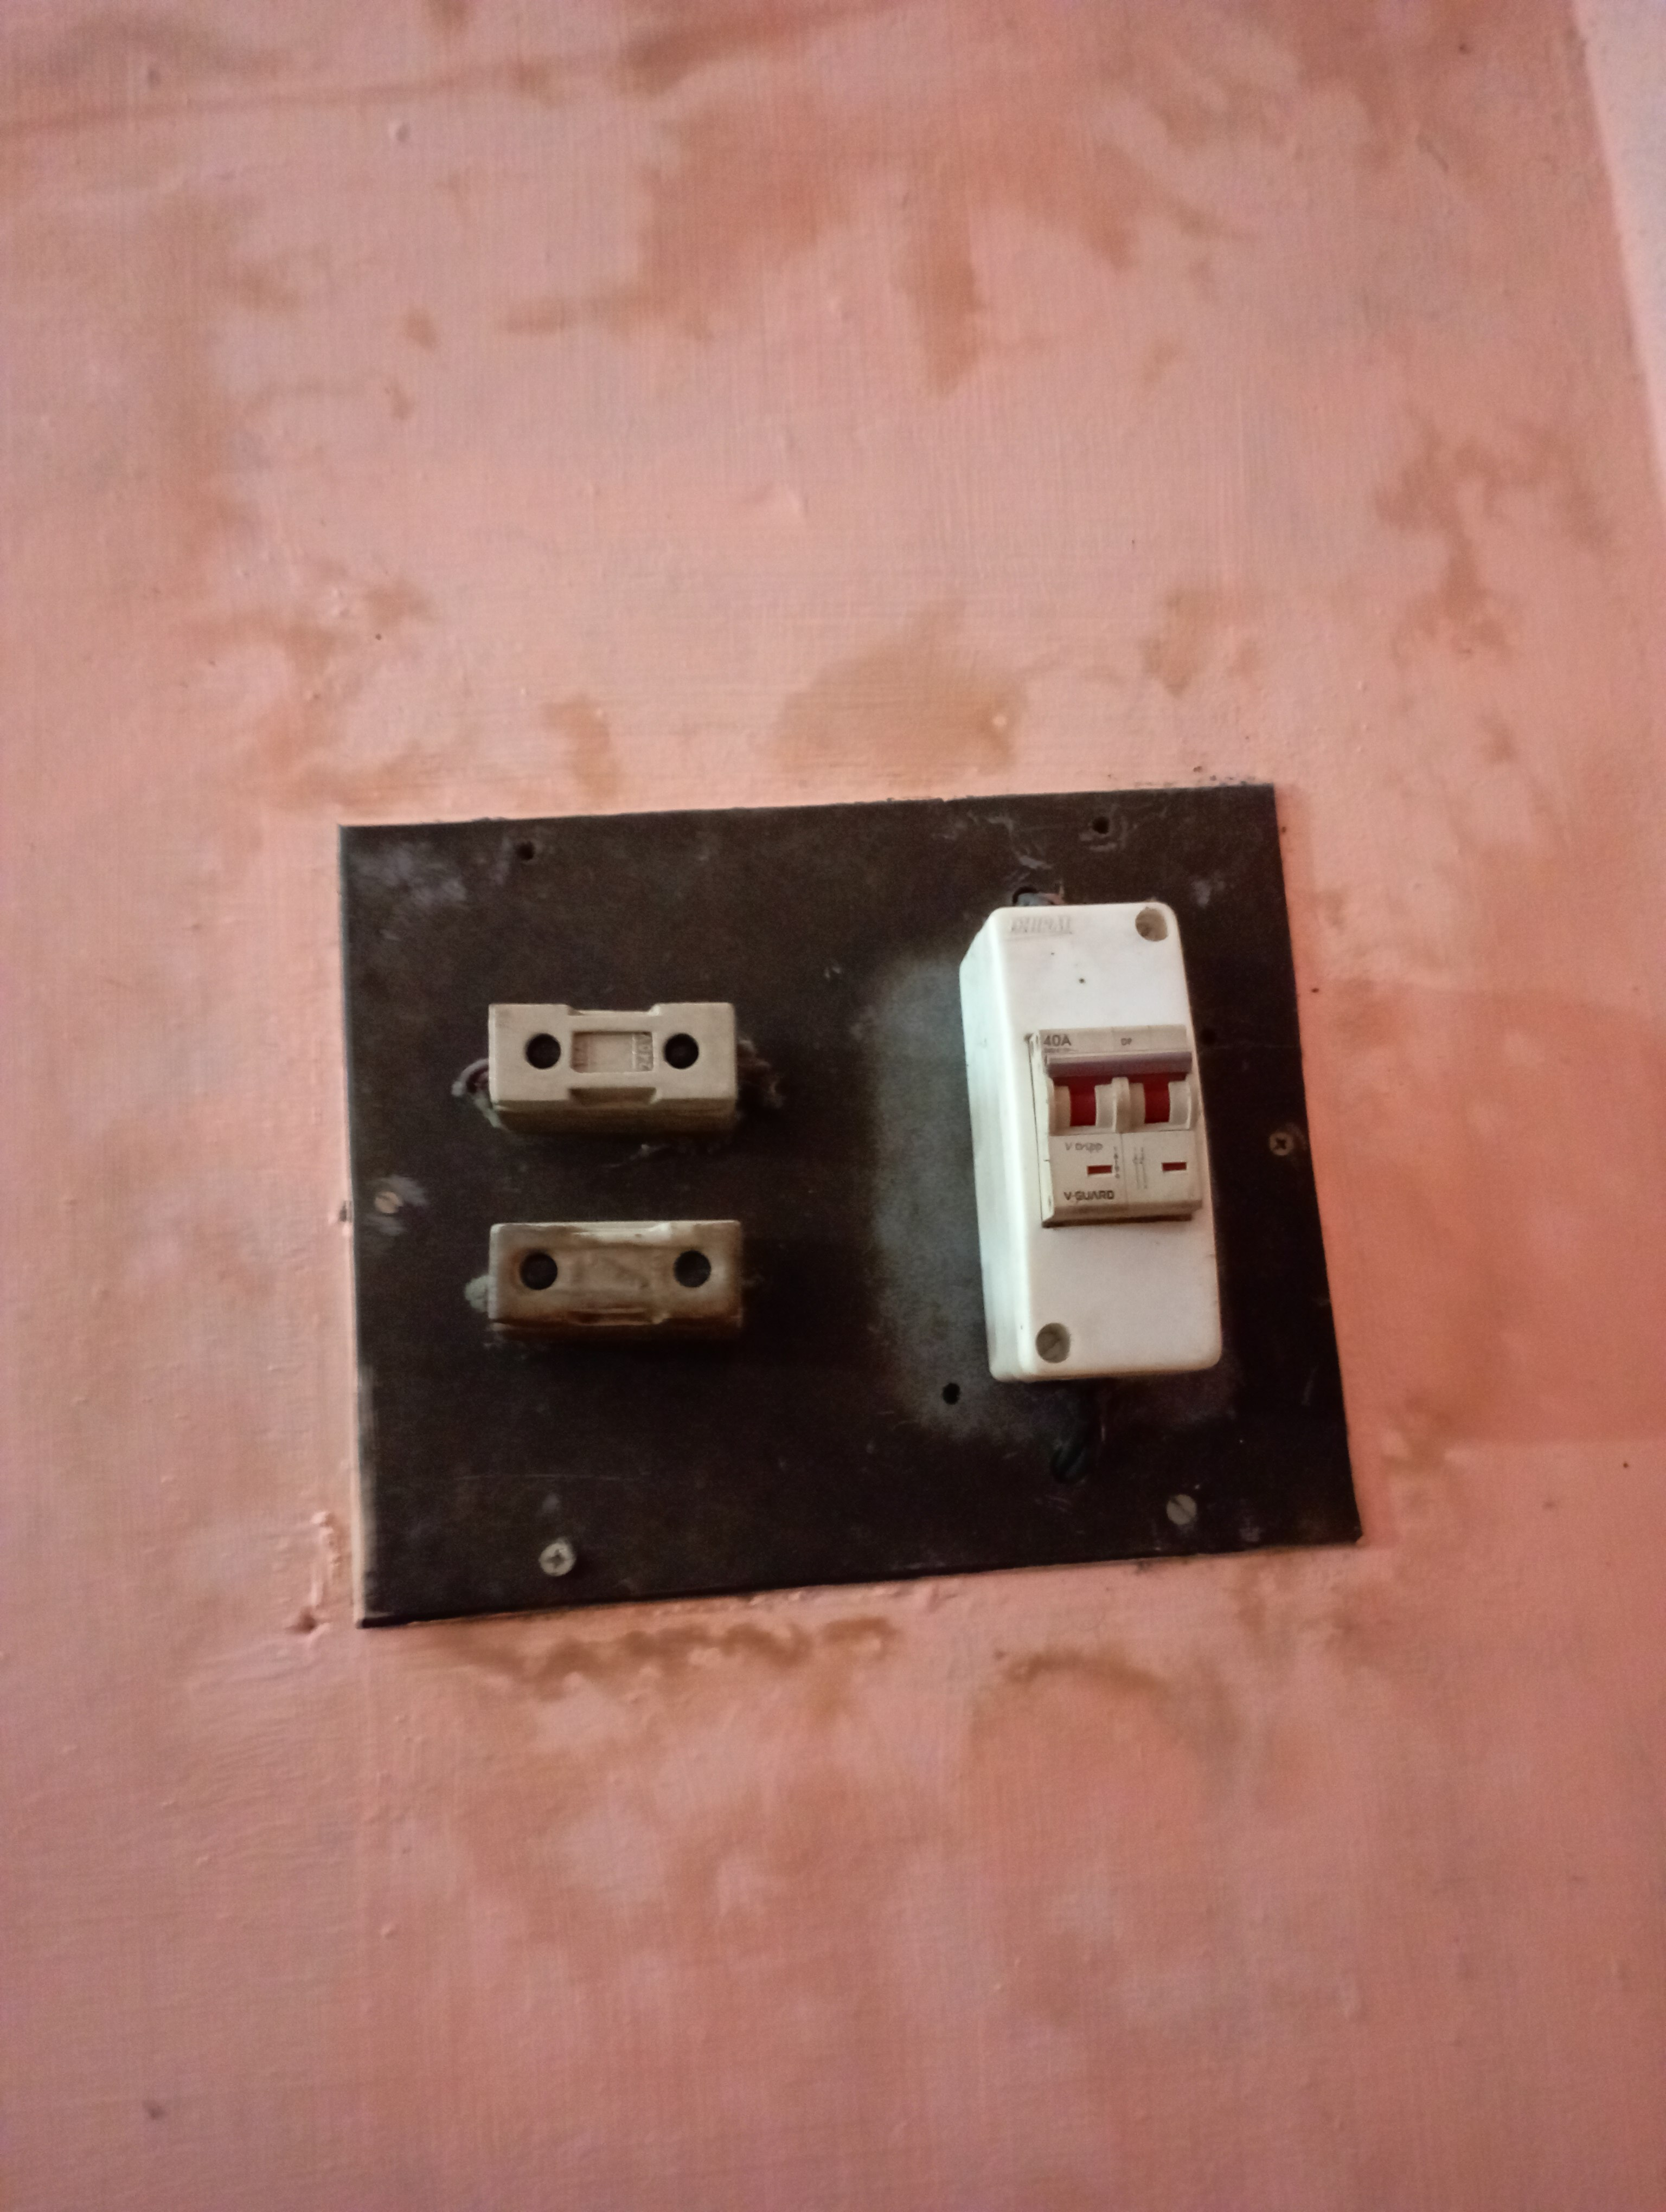ciruit_breaker: (943, 890, 1269, 1406)
fuse: (427, 983, 754, 1124), (494, 1194, 744, 1357)
